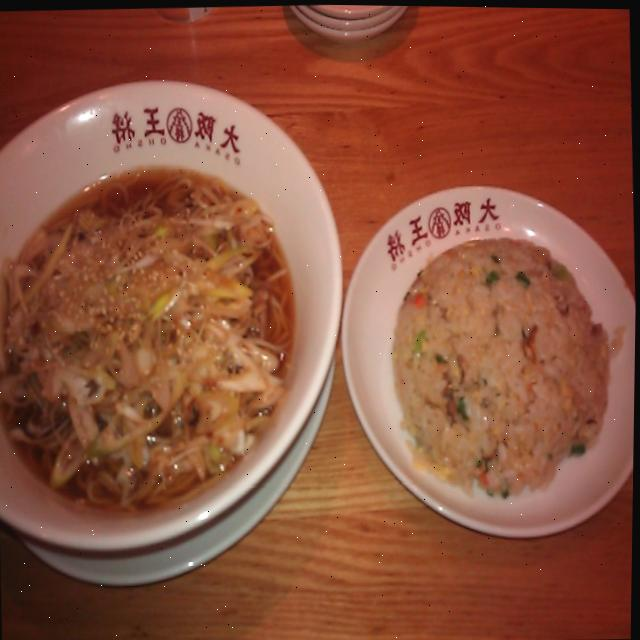米饭主食: (333, 165, 638, 546)
面条主食: (0, 62, 355, 585)
